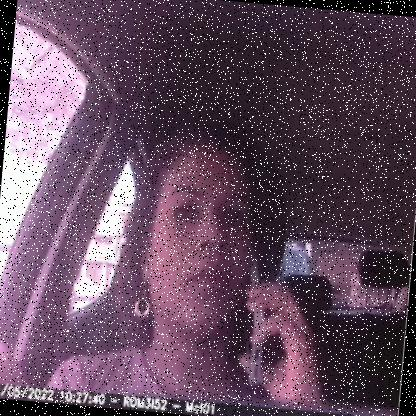phone: (233, 238, 290, 392)
